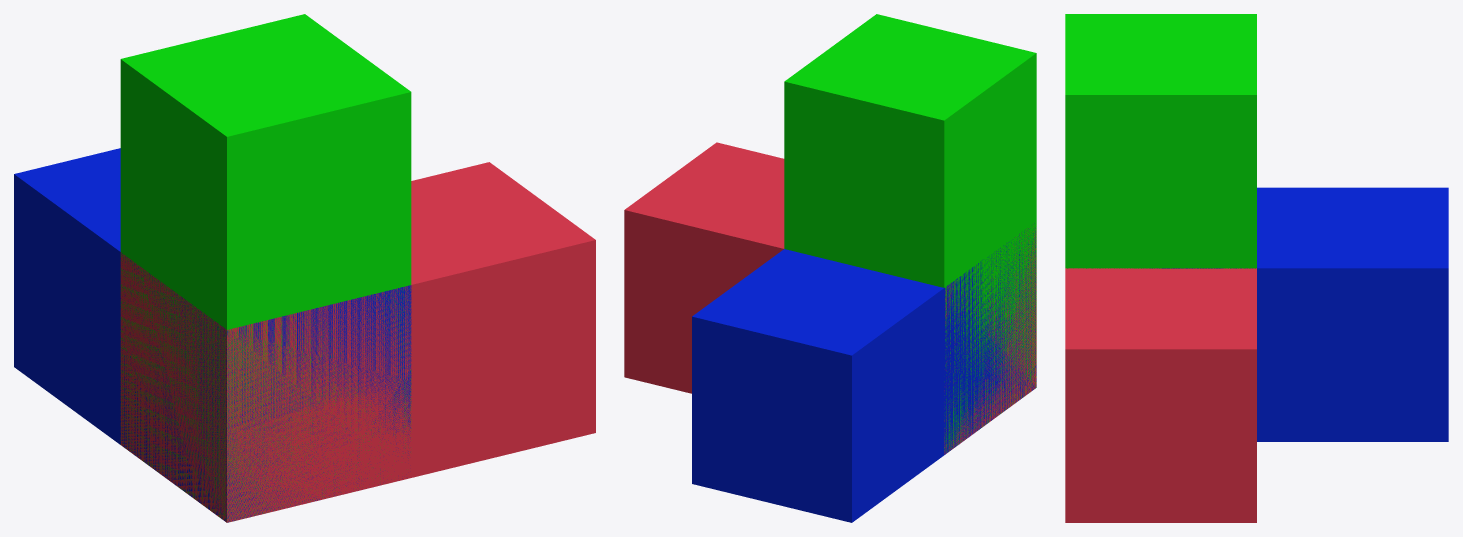
Rendered from coord.glb.
3 renders of one model, left to right at view 1: azimuth 30°, elevation 25°; view 2: azimuth 150°, elevation 25°; view 3: azimuth 270°, elevation 25°, orthographic. The views are drawn at different scales.
Visible parts, largest first — view 1: CubeRed, CubeBlue, CubeGreen; view 2: CubeGreen, CubeBlue, CubeRed; view 3: CubeGreen, CubeRed, CubeBlue.
Part boxes in pixels (x1=…): CubeRed: x1=120, y1=162, x2=595, y2=522; CubeBlue: x1=120, y1=14, x2=411, y2=520; CubeGreen: x1=14, y1=148, x2=411, y2=522; CubeGreen: x1=692, y1=223, x2=1036, y2=522; CubeBlue: x1=784, y1=14, x2=1036, y2=452; CubeRed: x1=624, y1=142, x2=1036, y2=454; CubeGreen: x1=1150, y1=187, x2=1448, y2=441; CubeRed: x1=1065, y1=268, x2=1256, y2=522; CubeBlue: x1=1065, y1=14, x2=1256, y2=268.
Size of the model in its own units: 2 by 2 by 2.
